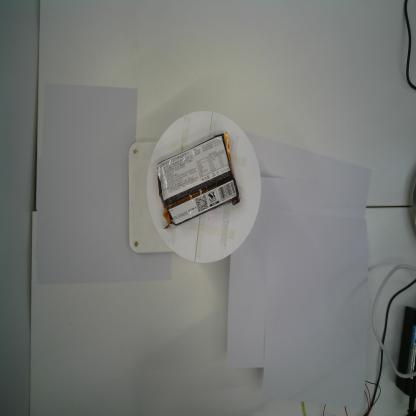Dessert: (155, 131, 242, 231)
